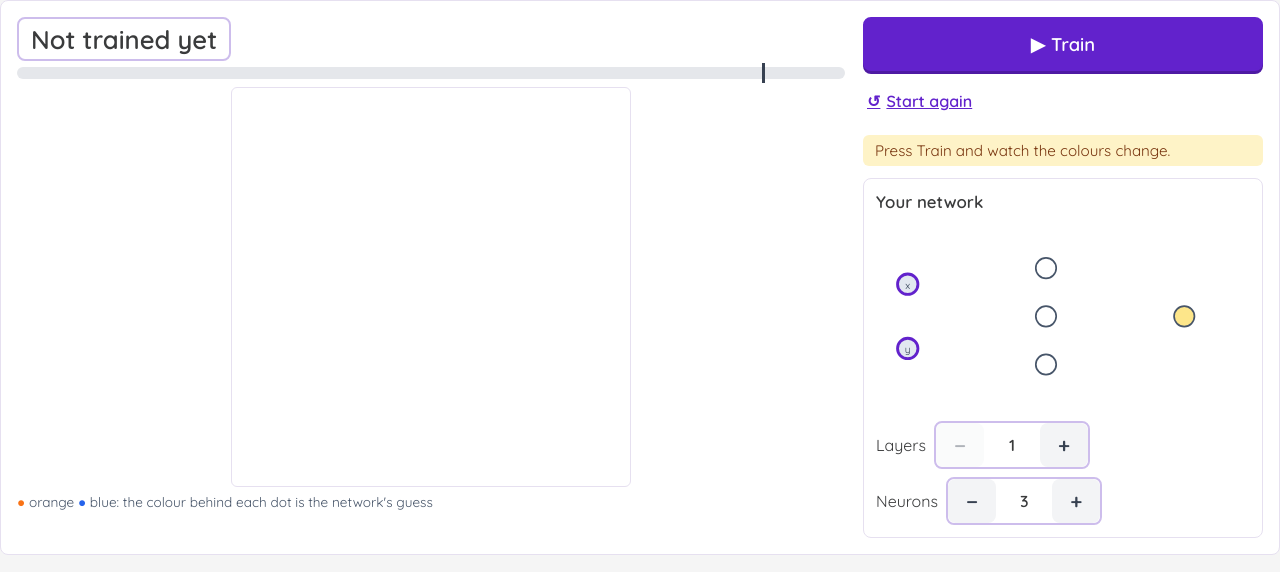
Test: Network Playground StudentView › trains frame by frame on two_blobs, stops itself at the target and passes
This screenshot has width=1280, height=572.
Click the button "▶Train".
click(1063, 44)  # box [863,17,1263,71]
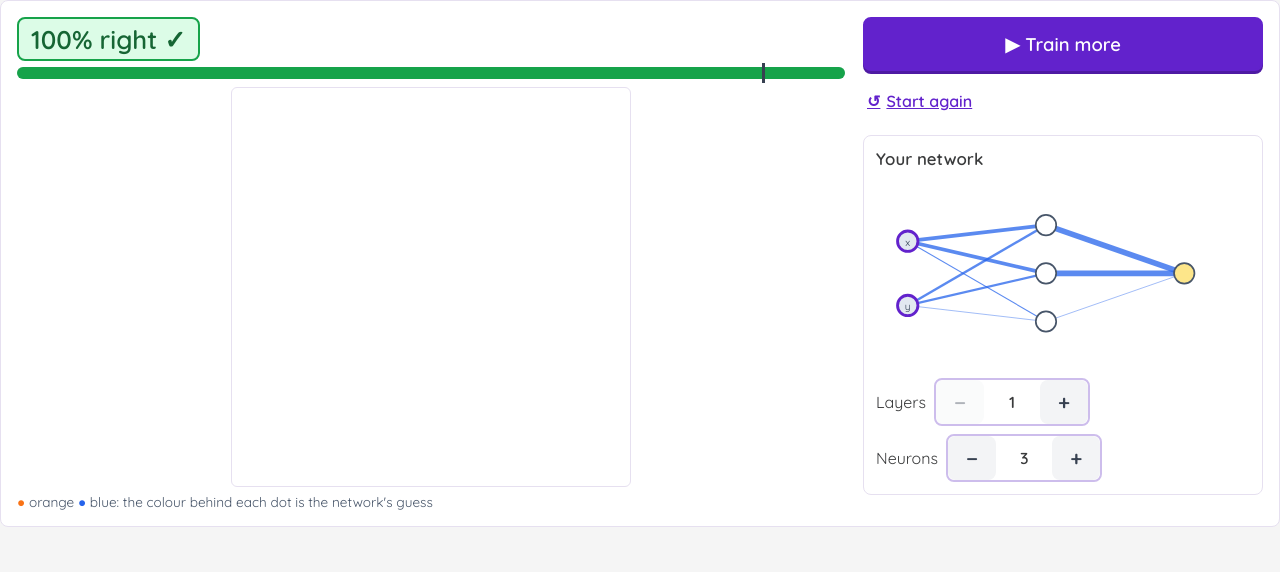
Check: the element with test id "network-stats" reads "100% right ✓", box [17,17,845,79]
